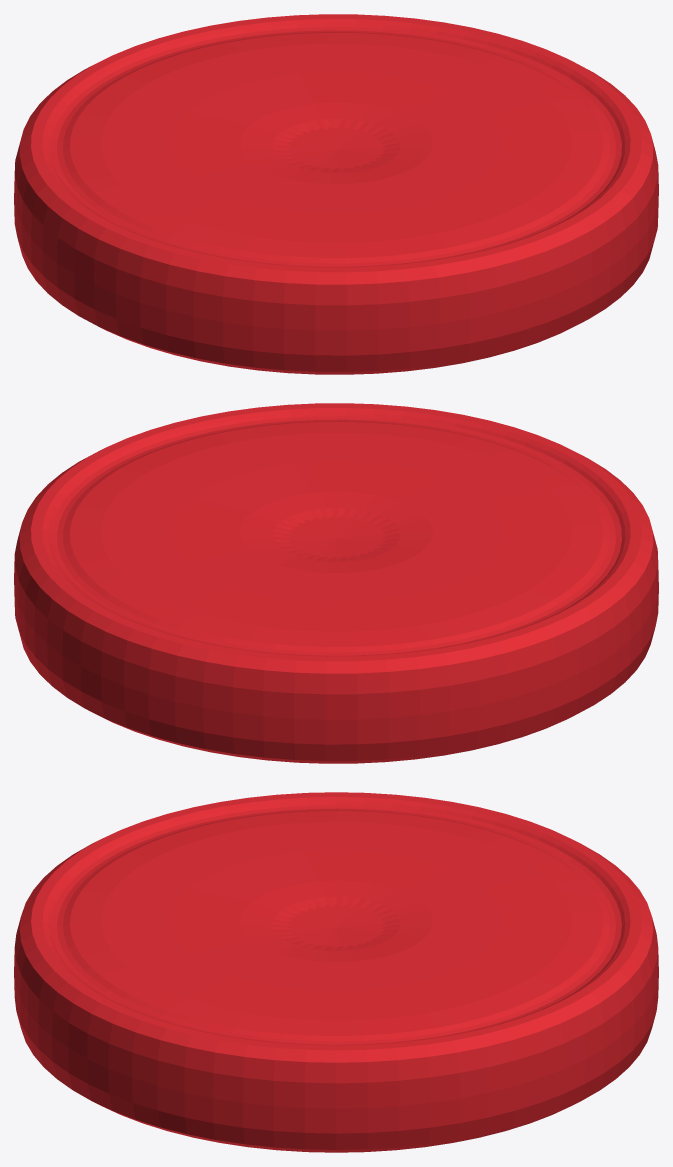
File: piece-w-bakugan.fbx
3 views of the same model, one above another, from view 1: azimuth 30°, elevation 25°; view 2: azimuth 150°, elevation 25°; view 3: azimuth 270°, elevation 25° (orthographic).
Visible parts, largest first — view 1: Cylinder; view 2: Cylinder; view 3: Cylinder.
Boxes of the visible parts, bbox=[...] form: Cylinder: bbox=[14, 14, 658, 374]; Cylinder: bbox=[14, 403, 658, 763]; Cylinder: bbox=[14, 792, 658, 1152].
Size of the model in its own units: 112 by 19.94 by 112.
